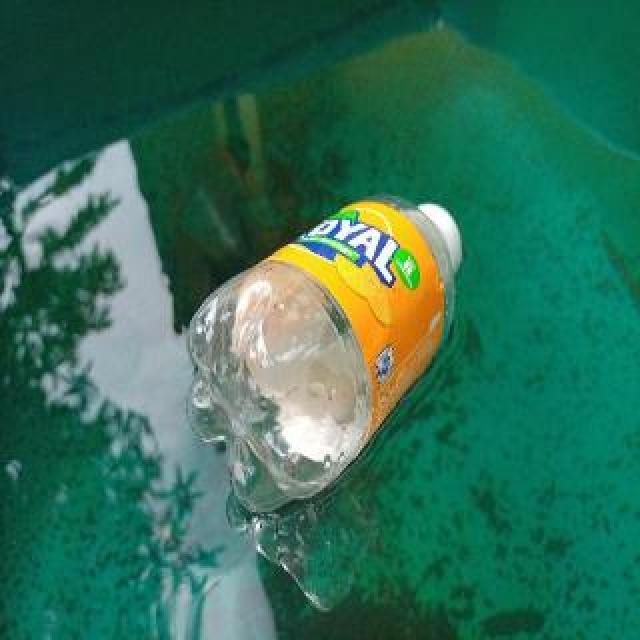Bottle: (177, 185, 476, 518)
